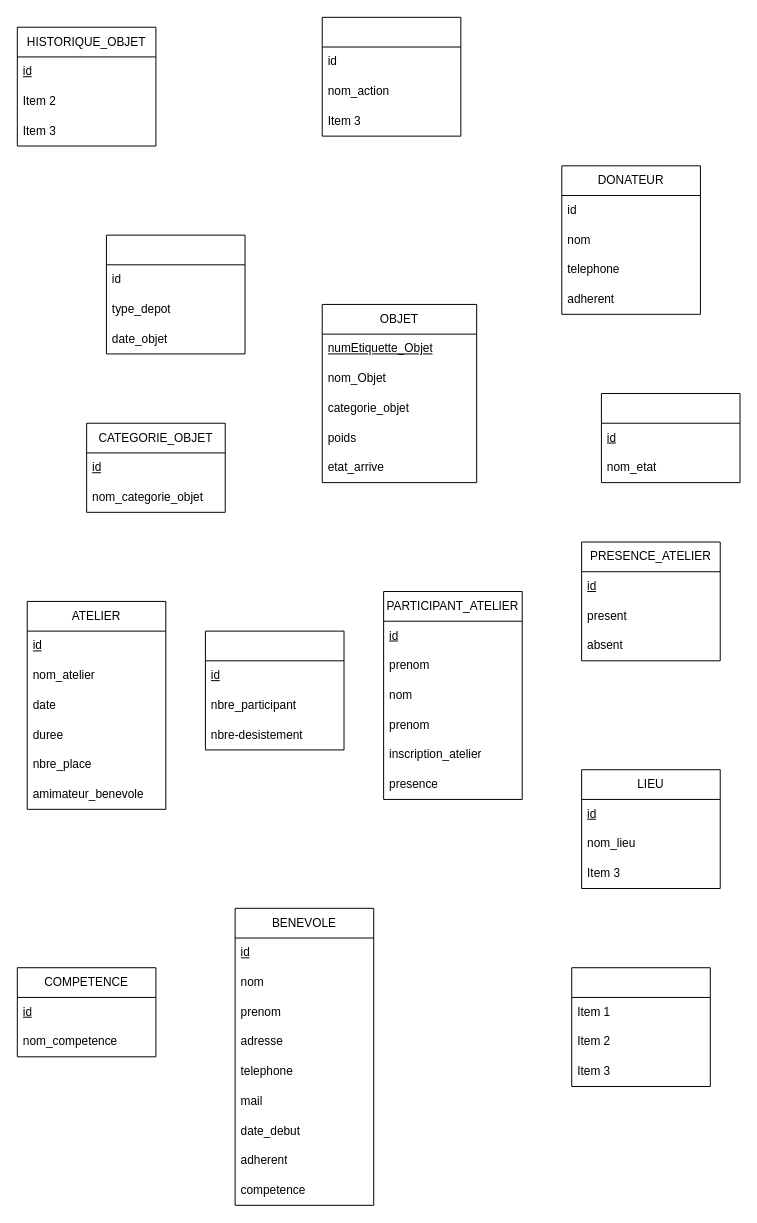
Image size: 757x1223. Some labels were removed from this diagram. Each missing label, with the box of its shape:
ACTIONS: (321, 16, 461, 136)
CAISSE: (571, 967, 710, 1087)
DEPOT/DON: (105, 234, 245, 354)
ETAT_OBJET_ARRIVE: (600, 393, 740, 483)
PARTICIPATION: (204, 630, 344, 750)
